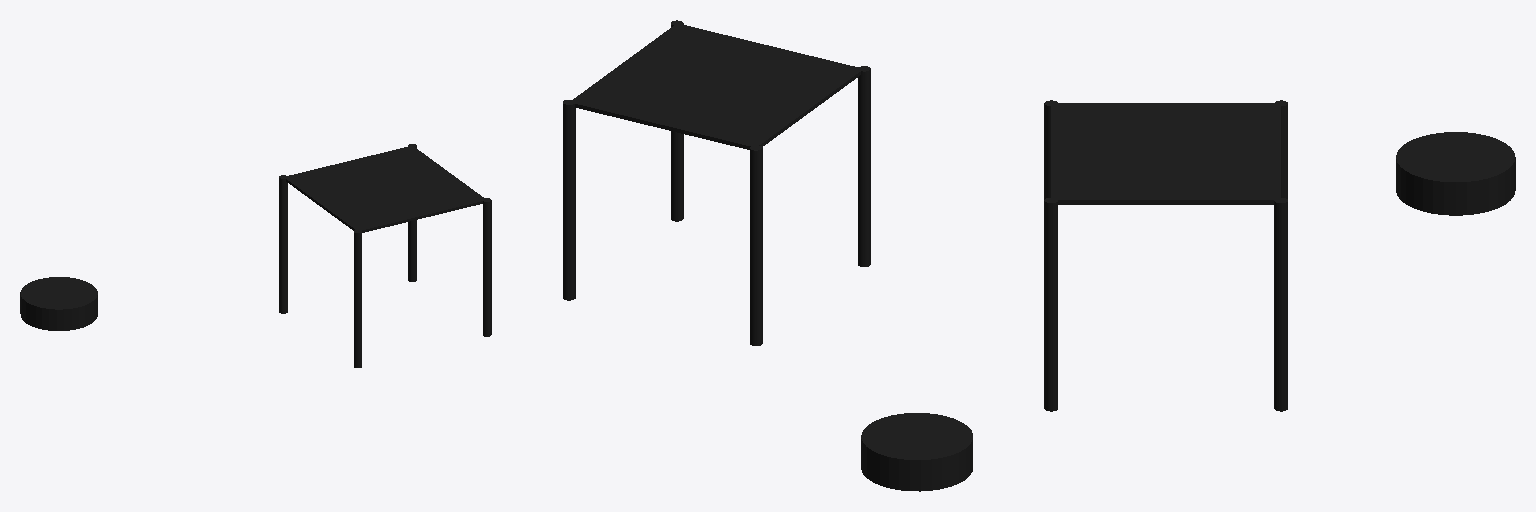
URDF robot description (jackal):
<?xml version="1.0" encoding="utf-8"?>
<!-- =================================================================================== -->
<!-- |    This document was autogenerated by xacro from jackal.urdf.xacro              | -->
<!-- |    EDITING THIS FILE BY HAND IS NOT RECOMMENDED                                 | -->
<!-- =================================================================================== -->
<robot name="jackal">
  <material name="dark_grey">
    <color rgba="0.2 0.2 0.2 1.0"/>
  </material>
  <material name="light_grey">
    <color rgba="0.4 0.4 0.4 1.0"/>
  </material>
  <material name="yellow">
    <color rgba="0.8 0.8 0.0 1.0"/>
  </material>
  <material name="black">
    <color rgba="0.15 0.15 0.15 1.0"/>
  </material>
  <material name="white">
    <color rgba="1.0 1.0 1.0 1.0"/>
  </material>
  <material name="blue">
    <color rgba="0.0 0.0 0.8 1.0"/>
  </material>
  <material name="aluminium">
    <color rgba="0.64 0.65 0.66 1.0"/>
  </material>

  <link name="front_left_wheel_link">
    <visual>
      <origin rpy="1.57079632679 0 0" xyz="0 0 0"/>
      <geometry>
        <mesh filename="assets/jackal/meshes/jackal-wheel.stl"/>
      </geometry>
      <material name="black"/>
    </visual>
    <collision>
      <origin rpy="1.57079632679 0 0" xyz="0 0 0"/>
      <geometry>
        <cylinder length="0.04" radius="0.095"/>
      </geometry>
    </collision>
    <inertial>
      <origin rpy="0 0 0" xyz="0 0 0"/>
      <mass value="0.477"/>
      <inertia ixx="0.0013" ixy="0" ixz="0" iyy="0.0024" iyz="0" izz="0.0013"/>
    </inertial>
  </link>
  <gazebo reference="front_left_wheel_link">
    <material>Gazebo/DarkGrey</material>
    <selfCollide>false</selfCollide>
    <mu1 value="0.5"/>
    <mu2 value="0.5"/>
    <kp value="10000000.0"/>
    <kd value="1"/>
    <fdir1 value="1 0 0"/>
  </gazebo>
  <joint name="front_left_wheel" type="continuous">
    <parent link="chassis_link"/>
    <child link="front_left_wheel_link"/>
    <origin rpy="0 0 0" xyz="0.131 0.187795 0.0345"/>
    <axis xyz="0 1 0"/>
  </joint>
  <!-- In reality, Jackal has only two motors, one per side. However, it's more
         straightforward for Gazebo to simulate as if there's an actuator per wheel. -->
  <transmission name="front_left_wheel_trans">
    <type>transmission_interface/SimpleTransmission</type>
    <joint name="front_left_wheel">
      <hardwareInterface>hardware_interface/VelocityJointInterface</hardwareInterface>
    </joint>
    <actuator name="front_left_actuator">
      <mechanicalReduction>1</mechanicalReduction>
    </actuator>
  </transmission>
  <link name="front_right_wheel_link">
    <visual>
      <origin rpy="1.57079632679 0 0" xyz="0 0 0"/>
      <geometry>
        <mesh filename="assets/jackal/meshes/jackal-wheel.stl"/>
      </geometry>
      <material name="black"/>
    </visual>
    <collision>
      <origin rpy="1.57079632679 0 0" xyz="0 0 0"/>
      <geometry>
        <cylinder length="0.04" radius="0.095"/>
      </geometry>
    </collision>
    <inertial>
      <origin rpy="0 0 0" xyz="0 0 0"/>
      <mass value="0.477"/>
      <inertia ixx="0.0013" ixy="0" ixz="0" iyy="0.0024" iyz="0" izz="0.0013"/>
    </inertial>
  </link>
  <gazebo reference="front_right_wheel_link">
    <material>Gazebo/DarkGrey</material>
    <selfCollide>false</selfCollide>
    <mu1 value="0.5"/>
    <mu2 value="0.5"/>
    <kp value="10000000.0"/>
    <kd value="1"/>
    <fdir1 value="1 0 0"/>
  </gazebo>
  <joint name="front_right_wheel" type="continuous">
    <parent link="chassis_link"/>
    <child link="front_right_wheel_link"/>
    <origin rpy="0 0 0" xyz="0.131 -0.187795 0.0345"/>
    <axis xyz="0 1 0"/>
  </joint>
  <!-- In reality, Jackal has only two motors, one per side. However, it's more
         straightforward for Gazebo to simulate as if there's an actuator per wheel. -->
  <transmission name="front_right_wheel_trans">
    <type>transmission_interface/SimpleTransmission</type>
    <joint name="front_right_wheel">
      <hardwareInterface>hardware_interface/VelocityJointInterface</hardwareInterface>
    </joint>
    <actuator name="front_right_actuator">
      <mechanicalReduction>1</mechanicalReduction>
    </actuator>
  </transmission>
  <link name="rear_left_wheel_link">
    <visual>
      <origin rpy="1.57079632679 0 0" xyz="0 0 0"/>
      <geometry>
        <mesh filename="assets/jackal/meshes/jackal-wheel.stl"/>
      </geometry>
      <material name="black"/>
    </visual>
    <collision>
      <origin rpy="1.57079632679 0 0" xyz="0 0 0"/>
      <geometry>
        <cylinder length="0.04" radius="0.095"/>
      </geometry>
    </collision>
    <inertial>
      <origin rpy="0 0 0" xyz="0 0 0"/>
      <mass value="0.477"/>
      <inertia ixx="0.0013" ixy="0" ixz="0" iyy="0.0024" iyz="0" izz="0.0013"/>
    </inertial>
  </link>
  <gazebo reference="rear_left_wheel_link">
    <material>Gazebo/DarkGrey</material>
    <selfCollide>false</selfCollide>
    <mu1 value="0.5"/>
    <mu2 value="0.5"/>
    <kp value="10000000.0"/>
    <kd value="1"/>
    <fdir1 value="1 0 0"/>
  </gazebo>
  <joint name="rear_left_wheel" type="continuous">
    <parent link="chassis_link"/>
    <child link="rear_left_wheel_link"/>
    <origin rpy="0 0 0" xyz="-0.131 0.187795 0.0345"/>
    <axis xyz="0 1 0"/>
  </joint>
  <!-- In reality, Jackal has only two motors, one per side. However, it's more
         straightforward for Gazebo to simulate as if there's an actuator per wheel. -->
  <transmission name="rear_left_wheel_trans">
    <type>transmission_interface/SimpleTransmission</type>
    <joint name="rear_left_wheel">
      <hardwareInterface>hardware_interface/VelocityJointInterface</hardwareInterface>
    </joint>
    <actuator name="rear_left_actuator">
      <mechanicalReduction>1</mechanicalReduction>
    </actuator>
  </transmission>
  <link name="rear_right_wheel_link">
    <visual>
      <origin rpy="1.57079632679 0 0" xyz="0 0 0"/>
      <geometry>
        <mesh filename="assets/jackal/meshes/jackal-wheel.stl"/>
      </geometry>
      <material name="black"/>
    </visual>
    <collision>
      <origin rpy="1.57079632679 0 0" xyz="0 0 0"/>
      <geometry>
        <cylinder length="0.04" radius="0.095"/>
      </geometry>
    </collision>
    <inertial>
      <origin rpy="0 0 0" xyz="0 0 0"/>
      <mass value="0.477"/>
      <inertia ixx="0.0013" ixy="0" ixz="0" iyy="0.0024" iyz="0" izz="0.0013"/>
    </inertial>
  </link>
  <gazebo reference="rear_right_wheel_link">
    <material>Gazebo/DarkGrey</material>
    <selfCollide>false</selfCollide>
    <mu1 value="0.5"/>
    <mu2 value="0.5"/>
    <kp value="10000000.0"/>
    <kd value="1"/>
    <fdir1 value="1 0 0"/>
  </gazebo>
  <joint name="rear_right_wheel" type="continuous">
    <parent link="chassis_link"/>
    <child link="rear_right_wheel_link"/>
    <origin rpy="0 0 0" xyz="-0.131 -0.187795 0.0345"/>
    <axis xyz="0 1 0"/>
  </joint>
  <!-- In reality, Jackal has only two motors, one per side. However, it's more
         straightforward for Gazebo to simulate as if there's an actuator per wheel. -->
  <transmission name="rear_right_wheel_trans">
    <type>transmission_interface/SimpleTransmission</type>
    <joint name="rear_right_wheel">
      <hardwareInterface>hardware_interface/VelocityJointInterface</hardwareInterface>
    </joint>
    <actuator name="rear_right_actuator">
      <mechanicalReduction>1</mechanicalReduction>
    </actuator>
  </transmission>
  <link name="base_link"/>
  <joint name="base_link_joint" type="fixed">
    <origin rpy="0 0 0" xyz="0 0 0"/>
    <parent link="base_link"/>
    <child link="chassis_link"/>
  </joint>
  <link name="chassis_link">
    <visual>
      <origin rpy="1.57079632679 0 1.57079632679" xyz="0 0 -0.0655"/>
      <geometry>
        <mesh filename="assets/jackal/meshes/jackal-base.stl"/>
      </geometry>
      <material name="dark_grey"/>
    </visual>
    <collision>
      <origin xyz="0 0 0.092"/>
      <geometry>
        <box size="0.42 0.31 0.184"/>
      </geometry>
    </collision>
    <inertial>
      <!-- Center of mass -->
      <origin rpy="0 0 0" xyz="0.012  0.002 0.067"/>
      <mass value="16.523"/>
      <!-- Moments of inertia: ( chassis without wheels ) -->
      <inertia ixx="0.3136" ixy="-0.0008" ixz="0.0164" iyy="0.3922" iyz="-0.0009" izz="0.4485"/>
    </inertial>
  </link>
  <link name="front_fender_link">
    <visual>
      <geometry>
        <mesh filename="assets/jackal/meshes/jackal-fender.stl"/>
      </geometry>
      <material name="yellow"/>
    </visual>
    <collision>
      <geometry>
        <mesh filename="assets/jackal/meshes/jackal-fender.stl"/>
      </geometry>
    </collision>
  </link>
  <joint name="front_fender_joint" type="fixed">
    <origin rpy="0 0 0" xyz="0 0 0"/>
    <parent link="chassis_link"/>
    <child link="front_fender_link"/>
  </joint>
  <link name="rear_fender_link">
    <visual>
      <geometry>
        <mesh filename="assets/jackal/meshes/jackal-fender.stl"/>
      </geometry>
      <material name="yellow"/>
    </visual>
    <collision>
      <geometry>
        <mesh filename="assets/jackal/meshes/jackal-fender.stl"/>
      </geometry>
    </collision>
  </link>
  <joint name="rear_fender_joint" type="fixed">
    <origin rpy="0 0 3.14159265359" xyz="0 0 0"/>
    <parent link="chassis_link"/>
    <child link="rear_fender_link"/>
  </joint>
  <!-- Default Internal IMU Link -->
  <link name="imu_link">
    <inertial>
      <mass value="0.001"/>
      <origin rpy="0 0 0" xyz="0 0 0"/>
      <inertia ixx="1e-09" ixy="0.0" ixz="0.0" iyy="1e-09" iyz="0.0" izz="1e-09"/>
    </inertial>
  </link>
  <joint name="imu_joint" type="fixed">
    <parent link="chassis_link"/>
    <child link="imu_link"/>
  </joint>
  <!-- Default NAVSAT Link -->
  <link name="navsat_link">
    <visual>
      <geometry>
        <cylinder length="0.016" radius="0.026"/>
      </geometry>
      <origin xyz="0 0 0.008"/>
      <material name="black"/>
    </visual>
  </link>
  <joint name="navsat_joint" type="fixed">
    <parent link="chassis_link"/>
    <child link="navsat_link"/>
    <origin xyz="-0.180 0.126 0.1815"/>
  </joint>
  <link name="mid_mount"/>
  <link name="rear_mount"/>
  <joint name="rear_mount_joint" type="fixed">
    <parent link="mid_mount"/>
    <child link="rear_mount"/>
    <origin xyz="-0.12 0 0"/>
  </joint>
  <link name="front_mount"/>
  <joint name="front_mount_joint" type="fixed">
    <parent link="mid_mount"/>
    <child link="front_mount"/>
    <origin xyz="0.12 0 0"/>
  </joint>

  <gazebo reference="base_link">
    <turnGravityOff>false</turnGravityOff>
  </gazebo>
  <gazebo reference="chassis_link">
    <material>Gazebo/DarkGrey</material>
    <turnGravityOff>false</turnGravityOff>
  </gazebo>
  <gazebo reference="imu_link">
    <turnGravityOff>false</turnGravityOff>
  </gazebo>
  <gazebo reference="navsat_link">
    <material>Gazebo/DarkGrey</material>
    <turnGravityOff>false</turnGravityOff>
  </gazebo>
  <gazebo reference="front_fender_link">
    <material>Gazebo/Yellow</material>
    <turnGravityOff>false</turnGravityOff>
  </gazebo>
  <gazebo reference="rear_fender_link">
    <material>Gazebo/Yellow</material>
    <turnGravityOff>false</turnGravityOff>
  </gazebo>

  <!-- velodyne 16 -->
  <joint name="VLP16_base_mount_joint" type="fixed">
    <parent link="JACKAL_LASER_3D_vlp16_plate"/>
    <child link="VLP16_base_link"/>
    <origin rpy="0 0 0" xyz="0 0 0"/>
  </joint>
  <link name="VLP16_base_link">
    <inertial>
      <mass value="0.1"/>
      <origin xyz="0 0 0"/>
      <inertia ixx="0.1" ixy="0" ixz="0" iyy="0.1" iyz="0" izz="0.1"/>
    </inertial>
    <visual>
      <geometry>
        <mesh filename="assets/jackal/meshes/VLP16_base_1.stl" />
      </geometry>
      <material name="light_grey"/>
    </visual>
    <visual>
      <geometry>
        <mesh filename="assets/jackal/meshes/VLP16_base_2.stl" />
      </geometry>
      <material name="light_grey"/>
    </visual>
    <collision>
      <origin rpy="0 0 0" xyz="0 0 0.03585"/>
      <geometry>
        <cylinder radius="0.0516" length="0.0717"/>
      </geometry>
    </collision>
  </link>
  <joint name="VLP16_base_scan_joint" type="fixed" >
    <origin xyz="0 0 0.0377" rpy="0 0 0" />
    <parent link="VLP16_base_link" />
    <child link="VLP16"/>
  </joint>
  <link name="VLP16">
    <inertial>
      <mass value="0.1"/>
      <origin xyz="0 0 0"/>
      <inertia ixx="0.1" ixy="0" ixz="0" iyy="0.1" iyz="0" izz="0.1"/>
    </inertial>
    <visual>
      <origin xyz="0 0 -0.0377" />
      <geometry>
        <mesh filename="assets/jackal/meshes/VLP16_scan.stl" />
      </geometry>
      <material name="blue"/>
    </visual>
  </link>
  <joint name="mid_mount_joint" type="fixed">
    <parent link="chassis_link" />
    <child link="mid_mount" />
    <origin xyz="0 0 0.184" />
  </joint>
  <joint name="JACKAL_LASER_3D_vlp16_mount_joint" type="fixed">
    <parent link="mid_mount" />
    <child link="JACKAL_LASER_3D_vlp16_mount" />
    <origin xyz="0 0 0" rpy="0 0 0" />
  </joint>
  <link name="JACKAL_LASER_3D_vlp16_mount" />
  <joint name="JACKAL_LASER_3D_vlp16_leg1_joint" type="fixed">
    <parent link="JACKAL_LASER_3D_vlp16_mount" />
    <child link="JACKAL_LASER_3D_vlp16_leg1" />
    <origin xyz="0.05 0.05 0" rpy="0 0 0" />
  </joint>
  <link name="JACKAL_LASER_3D_vlp16_leg1">
    <visual>
      <geometry>
        <cylinder length="0.1" radius="0.003" />
      </geometry>
      <material name="black" />
      <origin xyz="0 0 0.05" rpy="0 0 0" />
    </visual>
    <collision>
      <geometry>
        <cylinder length="0.1" radius="0.003" />
      </geometry>
      <origin xyz="0 0 0.05" rpy="0 0 0" />
    </collision>
  </link>
  <joint name="JACKAL_LASER_3D_vlp16_leg2_joint" type="fixed">
    <parent link="JACKAL_LASER_3D_vlp16_mount" />
    <child link="JACKAL_LASER_3D_vlp16_leg2" />
    <origin xyz="0.05 -0.05 0" rpy="0 0 0" />
  </joint>
  <link name="JACKAL_LASER_3D_vlp16_leg2">
    <visual>
      <geometry>
        <cylinder length="0.1" radius="0.003" />
      </geometry>
      <material name="black" />
      <origin xyz="0 0 0.05" rpy="0 0 0" />
    </visual>
    <collision>
      <geometry>
        <cylinder length="0.1" radius="0.003" />
      </geometry>
      <origin xyz="0 0 0.05" rpy="0 0 0" />
    </collision>
  </link>
  <joint name="JACKAL_LASER_3D_vlp16_leg3_joint" type="fixed">
    <parent link="JACKAL_LASER_3D_vlp16_mount" />
    <child link="JACKAL_LASER_3D_vlp16_leg3" />
    <origin xyz="-0.05 0.05 0" rpy="0 0 0" />
  </joint>
  <link name="JACKAL_LASER_3D_vlp16_leg3">
    <visual>
      <geometry>
        <cylinder length="0.1" radius="0.003" />
      </geometry>
      <material name="black" />
      <origin xyz="0 0 0.05" rpy="0 0 0" />
    </visual>
    <collision>
      <geometry>
        <cylinder length="0.1" radius="0.003" />
      </geometry>
      <origin xyz="0 0 0.05" rpy="0 0 0" />
    </collision>
  </link>
  <joint name="JACKAL_LASER_3D_vlp16_leg4_joint" type="fixed">
    <parent link="JACKAL_LASER_3D_vlp16_mount" />
    <child link="JACKAL_LASER_3D_vlp16_leg4" />
    <origin xyz="-0.05 -0.05 0" rpy="0 0 0" />
  </joint>
  <link name="JACKAL_LASER_3D_vlp16_leg4">
    <visual>
      <geometry>
        <cylinder length="0.1" radius="0.003" />
      </geometry>
      <material name="black" />
      <origin xyz="0 0 0.05" rpy="0 0 0" />
    </visual>
    <collision>
      <geometry>
        <cylinder length="0.1" radius="0.003" />
      </geometry>
      <origin xyz="0 0 0.05" rpy="0 0 0" />
    </collision>
  </link>
  <joint name="JACKAL_LASER_3D_vlp16_plate_joint" type="fixed">
    <parent link="JACKAL_LASER_3D_vlp16_mount" />
    <child link="JACKAL_LASER_3D_vlp16_plate" />
    <origin xyz="0 0 0.1" rpy="0 0 0" />
  </joint>
  <link name="JACKAL_LASER_3D_vlp16_plate">
    <visual>
      <geometry>
        <box size="0.1 0.1 0.002" />
      </geometry>
      <material name="black" />
      <origin xyz="0 0 -0.001" rpy="0 0 0" />
    </visual>
    <collision>
      <geometry>
        <box size="0.1 0.1 0.002" />
      </geometry>
      <origin xyz="0 0 -0.001" rpy="0 0 0" />
    </collision>
  </link>

  <!-- D435i -->
  <joint name="JACKAL_STEREO_d435_joint" type="fixed">
    <parent link="base_link" /> <!-- base_link = chassis_link -->
    <child link="JACKAL_STEREO_d435_camera" />
    <origin xyz="0.215 0 0.225" rpy="1.57079632679 0 1.57079632679" />
  </joint>
  <link name="JACKAL_STEREO_d435_camera">
    <visual>
      <geometry>
        <mesh filename="assets/jackal/meshes/d435.stl" />
      </geometry>
    </visual>
    <collision>
      <origin xyz="0 0 0" rpy="0 0 0"/>
      <geometry>
        <mesh filename="assets/jackal/meshes/d435.stl" />
      </geometry>
    </collision>
    <inertial>
      <!-- The following are not reliable values, and should not be used for modeling -->
      <mass value="0.072" />
      <origin xyz="0 0 0" />
      <inertia ixx="0.003881243" ixy="0.0" ixz="0.0" iyy="0.000498940" iyz="0.0" izz="0.003879257" />
    </inertial>
  </link>

  <!-- T265 -->
  <joint name="JACKAL_STEREO_t265_joint" type="fixed">
    <parent link="base_link" /> <!-- base_link = chassis_link -->
    <child link="JACKAL_STEREO_t265_camera" />
    <origin xyz="0.2 0 0.2" rpy="1.57079632679 0 1.57079632679" />
  </joint>
  <link name="JACKAL_STEREO_t265_camera">
    <visual>
      <geometry>
        <mesh filename="assets/jackal/meshes/t265.stl" />
      </geometry>
    </visual>
    <collision>
      <origin xyz="0 0 0" rpy="0 0 0"/>
      <geometry>
        <mesh filename="assets/jackal/meshes/t265.stl" />
      </geometry>
    </collision>
    <inertial>
      <!-- The following are not reliable values, and should not be used for modeling -->
      <mass value="0.068024" />
      <origin xyz="0 0 0" />
      <inertia ixx="0.0000039782" ixy="0.0" ixz="0.000000034641" iyy="0.000065045" iyz="0.0" izz="0.000067499" />
    </inertial>
  </link>

  <!--
    As you add to this URDF, please be aware that both the robot and
    simulation include it. You must retain compatibility with all of
    the following launch files:

    jackal_viz/launch/view_model.launch
    jackal_gazebo/launch/jackal_world.launch
    jackal_base/launch/base.launch
  -->
  <!-- 
    Add Cameras. 
    - JACKAL_FLEA3
    - JACKAL_STEREO_FLEA3
    - JACKAL_BB2
  -->
  <!-- This file is a placeholder which is included by default from
       jackal.urdf.xacro. If a robot is being customized and requires
       additional URDF, set the JACKAL_URDF_EXTRAS environment variable
       to the full path of the file you would like included. -->
  <!-- This file is a placeholder which is included by default from
       jackal.urdf.xacro. If a robot is being customized and requires
       additional URDF, set the JACKAL_URDF_EXTRAS environment variable
       to the full path of the file you would like included. -->
</robot>

--- Facts derived from the render (not from the file) ---
Views: 3 orthographic renders of the robot side by side, from view 1: azimuth 30°, elevation 25°; view 2: azimuth 150°, elevation 25°; view 3: azimuth 270°, elevation 25°.
Model jackal with 23 links and 22 joints (4 continuous, 18 fixed), rooted at base_link, posed all joints at 0.
Visible links, largest first — view 1: JACKAL_LASER_3D_vlp16_plate, navsat_link, JACKAL_LASER_3D_vlp16_leg2, JACKAL_LASER_3D_vlp16_leg3, JACKAL_LASER_3D_vlp16_leg4, JACKAL_LASER_3D_vlp16_leg1; view 2: JACKAL_LASER_3D_vlp16_plate, navsat_link, JACKAL_LASER_3D_vlp16_leg3, JACKAL_LASER_3D_vlp16_leg1, JACKAL_LASER_3D_vlp16_leg4, JACKAL_LASER_3D_vlp16_leg2; view 3: JACKAL_LASER_3D_vlp16_plate, navsat_link, JACKAL_LASER_3D_vlp16_leg1, JACKAL_LASER_3D_vlp16_leg2, JACKAL_LASER_3D_vlp16_leg4, JACKAL_LASER_3D_vlp16_leg3.
Boxes of the visible links, x1,y1,x2,y2 form: JACKAL_LASER_3D_vlp16_plate: [286, 146, 485, 232]; navsat_link: [20, 277, 97, 330]; JACKAL_LASER_3D_vlp16_leg2: [483, 198, 491, 336]; JACKAL_LASER_3D_vlp16_leg3: [279, 175, 287, 313]; JACKAL_LASER_3D_vlp16_leg4: [354, 230, 361, 367]; JACKAL_LASER_3D_vlp16_leg1: [408, 144, 416, 281]; JACKAL_LASER_3D_vlp16_plate: [570, 24, 860, 149]; navsat_link: [861, 413, 972, 491]; JACKAL_LASER_3D_vlp16_leg3: [750, 145, 762, 345]; JACKAL_LASER_3D_vlp16_leg1: [563, 100, 575, 300]; JACKAL_LASER_3D_vlp16_leg4: [858, 66, 870, 266]; JACKAL_LASER_3D_vlp16_leg2: [671, 20, 683, 221]; JACKAL_LASER_3D_vlp16_plate: [1051, 103, 1280, 204]; navsat_link: [1396, 132, 1515, 215]; JACKAL_LASER_3D_vlp16_leg1: [1274, 198, 1287, 411]; JACKAL_LASER_3D_vlp16_leg2: [1044, 198, 1057, 411]; JACKAL_LASER_3D_vlp16_leg4: [1044, 100, 1057, 199]; JACKAL_LASER_3D_vlp16_leg3: [1274, 100, 1287, 198].
Bounding box of the posed robot: 0.259 × 0.205 × 0.1025 m (x, y, z).
0 mesh visuals loaded from 8 distinct referenced files (none loaded); not drawn: 12 (reference not matched to a file when rendering).